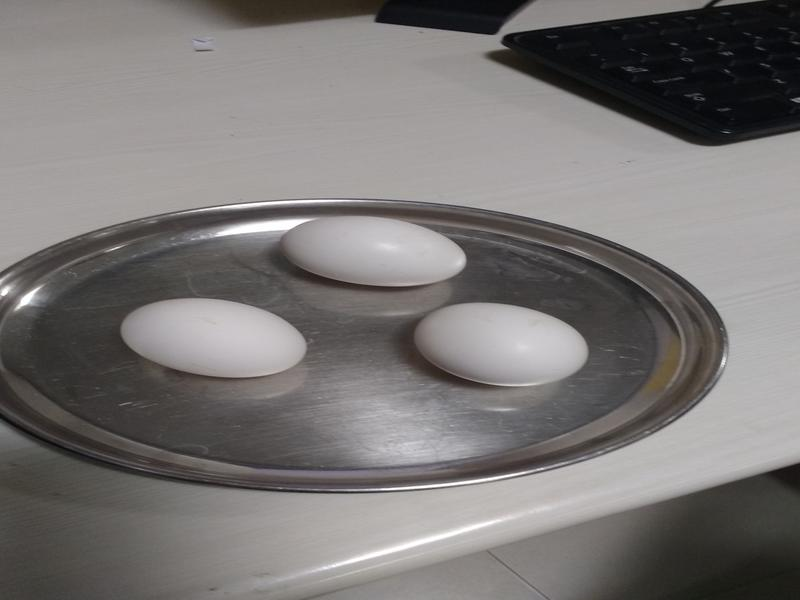egg: (115, 302, 311, 377)
